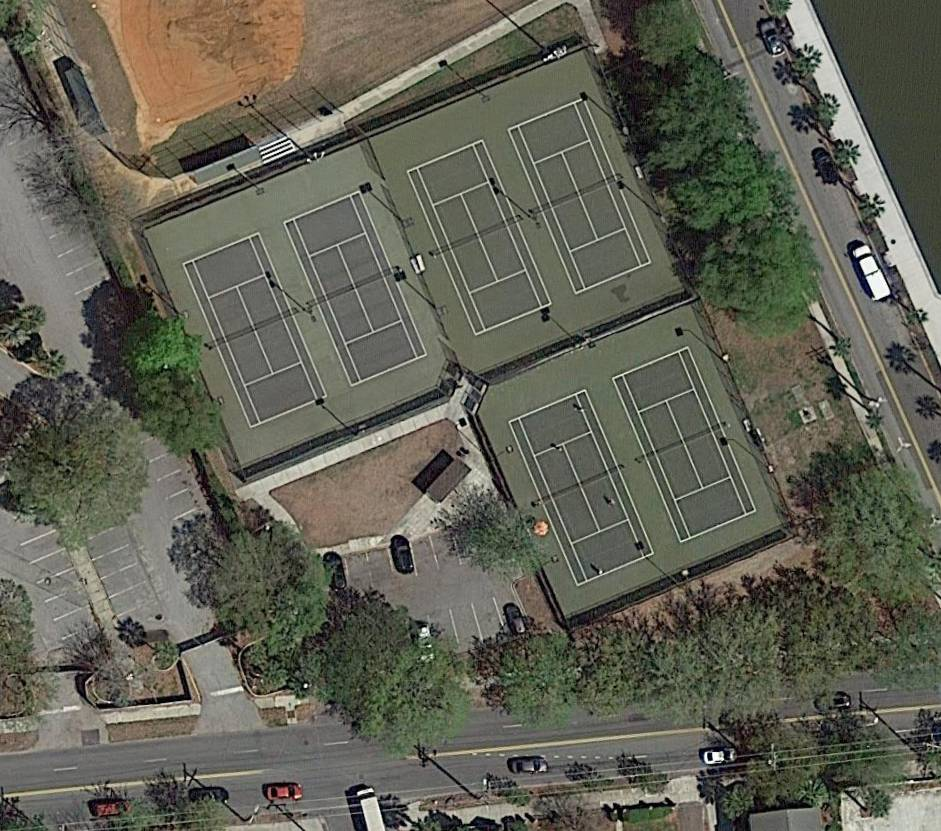large vehicle: (851, 241, 893, 303)
small vehicle: (812, 146, 842, 189), (758, 19, 789, 60), (411, 622, 438, 665), (392, 537, 415, 578), (188, 786, 229, 808), (325, 553, 348, 592), (502, 603, 526, 638), (94, 799, 133, 820), (702, 745, 739, 766), (511, 756, 549, 776), (268, 782, 302, 803)
tennis court: (182, 231, 329, 428), (509, 390, 655, 586), (283, 191, 428, 388), (407, 139, 552, 335), (508, 98, 652, 295), (612, 347, 756, 543)
